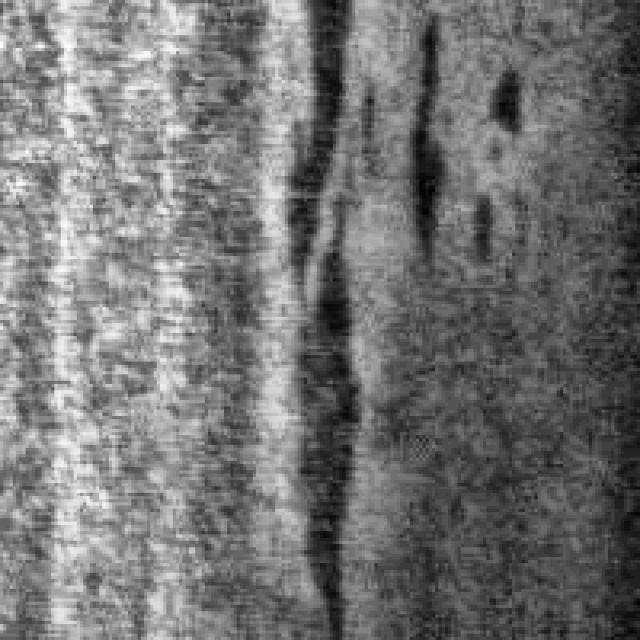Patches: (269, 0, 368, 624), (384, 3, 458, 278), (467, 54, 531, 157)
